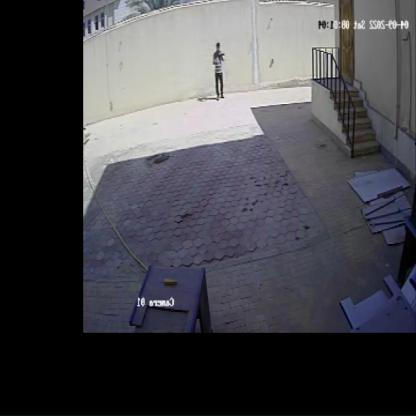handgun: (213, 46, 227, 64)
